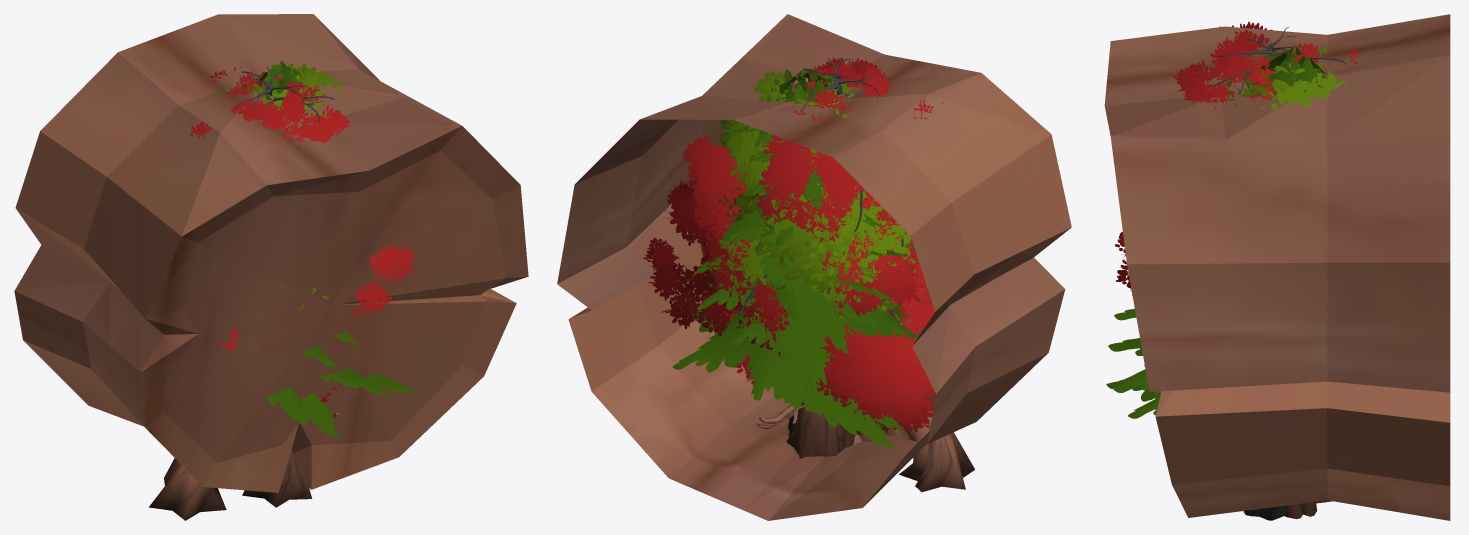
File: sherwood-tree-catalog.glb
3 views of the same model, side by side, from view 1: azimuth 30°, elevation 25°; view 2: azimuth 150°, elevation 25°; view 3: azimuth 270°, elevation 25° (orthographic). The views are drawn at different scales.
Visible parts, largest first — view 1: TreeVariant_Stump, TreeVariant_Twisted_1, TreeVariant_Twisted_5, TreeVariant_Pine_5, TreeVariant_Pine_2, TreeVariant_Dead_3; view 2: TreeVariant_Stump, TreeVariant_Twisted_1, TreeVariant_Pine_2, TreeVariant_Twisted_5, TreeVariant_Common_2, TreeVariant_Pine_5, TreeVariant_Common_1, TreeVariant_Pine_3, TreeVariant_Dead_3, TreeVariant_Common_4; view 3: TreeVariant_Stump, TreeVariant_Twisted_5, TreeVariant_Pine_5, TreeVariant_Dead_3, TreeVariant_Pine_2, TreeVariant_Common_2, TreeVariant_Common_4, TreeVariant_Pine_3, TreeVariant_Twisted_1, TreeVariant_Common_1, TreeVariant_Common_3.
Boxes of the visible parts, x1,y1,x2,y2 form: TreeVariant_Stump: (14,14,528,492); TreeVariant_Twisted_1: (149,71,415,520); TreeVariant_Twisted_5: (189,66,353,507); TreeVariant_Pine_5: (262,62,418,437); TreeVariant_Pine_2: (257,70,392,426); TreeVariant_Dead_3: (233,66,334,121); TreeVariant_Stump: (557,14,1071,520); TreeVariant_Twisted_1: (643,80,974,492); TreeVariant_Pine_2: (672,75,929,448); TreeVariant_Twisted_5: (756,57,943,441); TreeVariant_Common_2: (708,69,916,458); TreeVariant_Pine_5: (713,76,920,429); TreeVariant_Common_1: (719,71,916,451); TreeVariant_Pine_3: (696,69,913,429); TreeVariant_Dead_3: (738,58,903,433); TreeVariant_Common_4: (753,71,856,447); TreeVariant_Stump: (1104,14,1450,520); TreeVariant_Twisted_5: (1173,21,1362,111); TreeVariant_Pine_5: (1106,55,1327,418); TreeVariant_Dead_3: (1212,27,1346,520); TreeVariant_Pine_2: (1108,47,1301,398); TreeVariant_Common_2: (1226,56,1332,516); TreeVariant_Common_4: (1260,47,1326,109); TreeVariant_Pine_3: (1260,53,1323,99); TreeVariant_Twisted_1: (1115,43,1319,295); TreeVariant_Common_1: (1227,50,1340,519); TreeVariant_Common_3: (1290,70,1345,102).
Bounding box in the file's own units: 1.02 × 1 × 0.7132.
5 materials, 5 textured.
